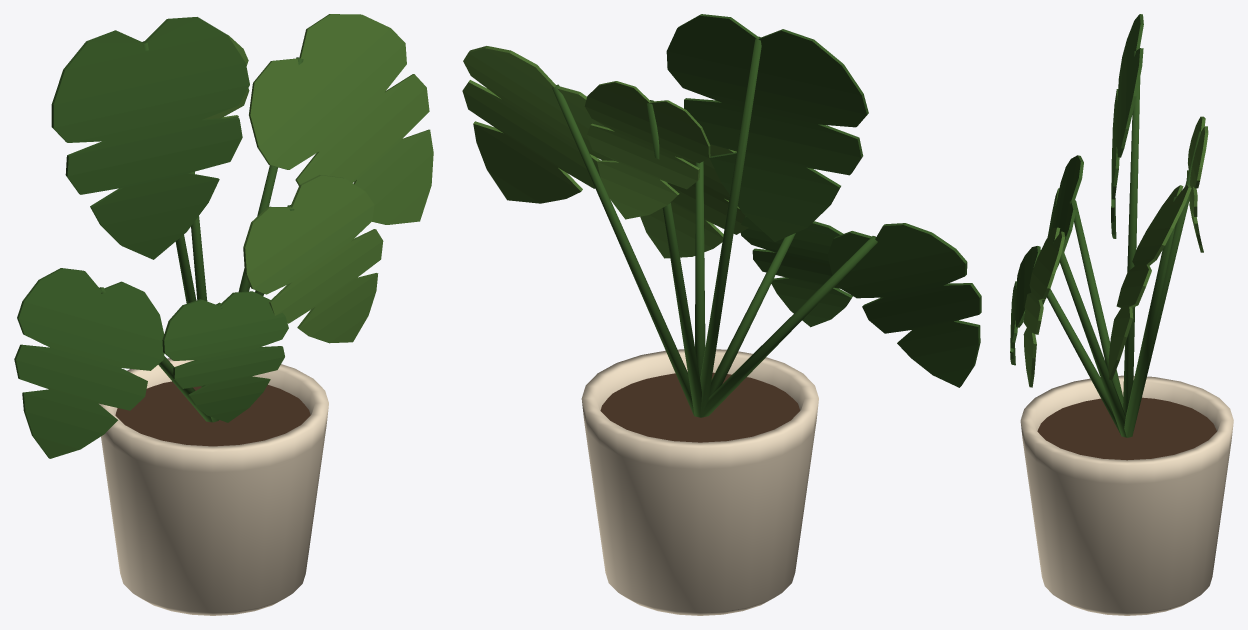
Rendered from monstera.glb.
3 renders of one model, left to right at view 1: azimuth 30°, elevation 25°; view 2: azimuth 150°, elevation 25°; view 3: azimuth 270°, elevation 25°, orthographic. The views are drawn at different scales.
Parts seen in each view (by area): view 1: monstera_pot, monstera_split_leaf_0, monstera_split_leaf_1, monstera_split_leaf_2, monstera_split_leaf_3, monstera_split_leaf_4, monstera_soil, monstera_stalk_5, monstera_stalk_0, monstera_stalk_1; view 2: monstera_pot, monstera_split_leaf_0, monstera_split_leaf_2, monstera_split_leaf_1, monstera_split_leaf_5, monstera_soil, monstera_split_leaf_4, monstera_split_leaf_3, monstera_stalk_0, monstera_stalk_1, monstera_stalk_2, monstera_stalk_5 (+2 smaller); view 3: monstera_pot, monstera_soil, monstera_split_leaf_1, monstera_split_leaf_0, monstera_split_leaf_3, monstera_stalk_0, monstera_stalk_1, monstera_stalk_3, monstera_split_leaf_2, monstera_stalk_2, monstera_split_leaf_4, monstera_split_leaf_5 (+2 smaller).
Boxes of the visible parts, x1,y1,x2,y2 form: monstera_pot: (99,358,328,615); monstera_split_leaf_0: (51,17,249,259); monstera_split_leaf_1: (249,14,433,224); monstera_split_leaf_2: (14,268,164,458); monstera_split_leaf_3: (243,175,383,343); monstera_split_leaf_4: (162,291,288,422); monstera_soil: (115,381,310,446); monstera_stalk_5: (189,171,207,301); monstera_stalk_0: (142,41,204,387); monstera_stalk_1: (238,57,303,292); monstera_pot: (581,349,818,615); monstera_split_leaf_0: (666,14,868,241); monstera_split_leaf_2: (827,223,981,387); monstera_split_leaf_1: (462,46,614,203); monstera_split_leaf_5: (584,81,710,219); monstera_soil: (600,372,799,442); monstera_split_leaf_4: (740,216,852,327); monstera_split_leaf_3: (640,144,748,258); monstera_stalk_0: (700,36,761,417); monstera_stalk_1: (552,84,694,416); monstera_stalk_2: (701,236,877,417); monstera_stalk_5: (647,100,701,417); monstera_pot: (1020,375,1233,615); monstera_soil: (1037,397,1216,460); monstera_split_leaf_1: (1108,184,1191,380); monstera_split_leaf_0: (1111,14,1143,238); monstera_split_leaf_3: (1023,227,1065,387); monstera_stalk_0: (1123,50,1140,415); monstera_stalk_1: (1124,196,1176,437); monstera_stalk_3: (1053,240,1126,437); monstera_split_leaf_2: (1042,155,1083,304); monstera_stalk_2: (1069,200,1123,407); monstera_split_leaf_4: (1010,246,1040,365); monstera_split_leaf_5: (1186,116,1208,252).
Bounding box in the file's own units: 1.16 × 1.37 × 0.5348.
